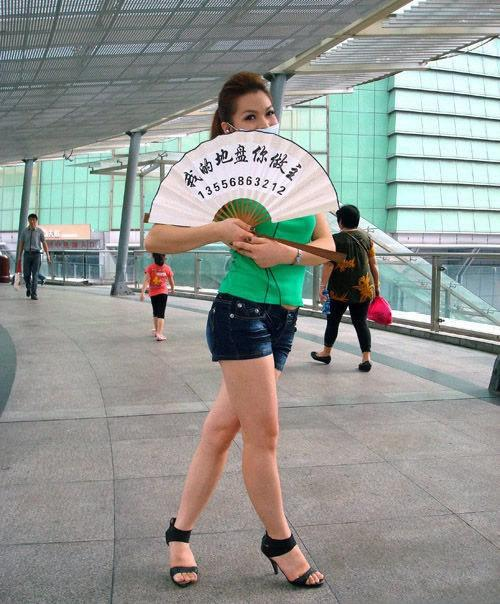WRONG: (238, 109, 279, 152)
